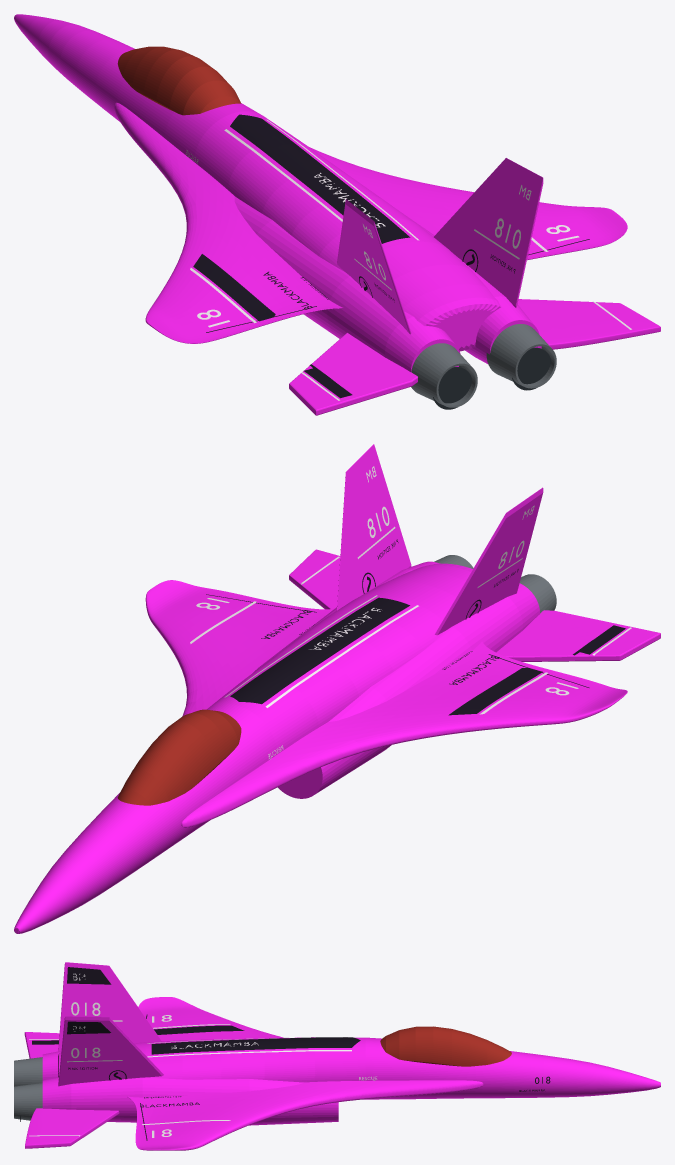
File: f18-pink.glb
3 views of the same model, one above another, from view 1: azimuth 30°, elevation 25°; view 2: azimuth 150°, elevation 25°; view 3: azimuth 270°, elevation 25° (orthographic). The views are drawn at different scales.
Visible parts, largest first — view 1: Game_Airframe • cool grey, Game_INK • Obsidian, Game_Canopy • smoked blue, Game_Nozzle • titanium, Game_INK • Pearl, Game_Intake • charcoal; view 2: Game_Airframe • cool grey, Game_INK • Obsidian, Game_Canopy • smoked blue, Game_INK • Pearl, Game_Nozzle • titanium; view 3: Game_Airframe • cool grey, Game_INK • Obsidian, Game_Canopy • smoked blue, Game_INK • Pearl, Game_Nozzle • titanium.
Part boxes in pixels (x1,y1,x2,y2): Game_Airframe • cool grey: (14, 14, 660, 415); Game_INK • Obsidian: (193, 114, 589, 398); Game_Canopy • smoked blue: (117, 46, 241, 115); Game_Nozzle • titanium: (411, 324, 556, 407); Game_INK • Pearl: (186, 119, 631, 400); Game_Intake • charcoal: (433, 347, 551, 409); Game_Airframe • cool grey: (14, 444, 660, 933); Game_INK • Obsidian: (132, 539, 625, 770); Game_Canopy • smoked blue: (117, 709, 241, 805); Game_INK • Pearl: (190, 466, 631, 759); Game_Nozzle • titanium: (434, 555, 556, 613); Game_Airframe • cool grey: (24, 962, 660, 1150); Game_INK • Obsidian: (32, 967, 550, 1140); Game_Canopy • smoked blue: (380, 1026, 511, 1066); Game_INK • Pearl: (29, 973, 377, 1137); Game_Nozzle • titanium: (14, 1057, 42, 1120).
Bounding box in the file's own units: 1.87 × 0.6922 × 3.34.
